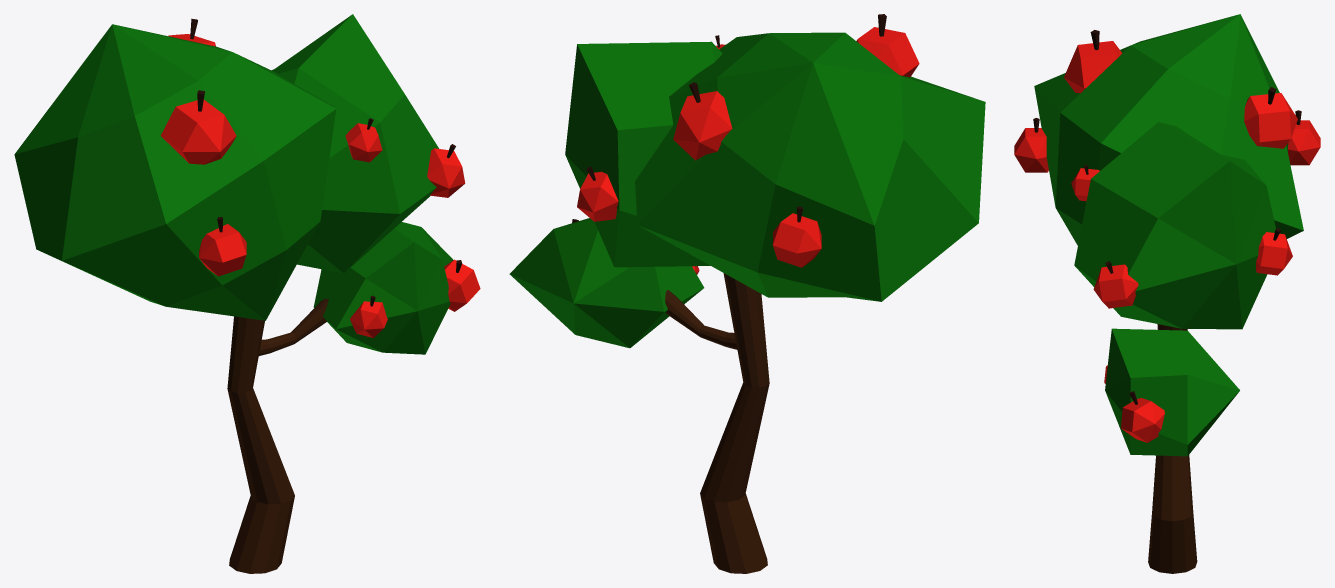
File: tree 3.fbx
3 renders of one model, left to right at view 1: azimuth 30°, elevation 25°; view 2: azimuth 150°, elevation 25°; view 3: azimuth 270°, elevation 25°, orthographic. The views are drawn at different scales.
Parts seen in each view (by area): view 1: tree 3; view 2: tree 3; view 3: tree 3.
Boxes of the visible parts, <box> form: tree 3: <box>14,14,480,573</box>; tree 3: <box>509,14,985,573</box>; tree 3: <box>1014,14,1320,573</box>.
Size of the model in its own units: 450 by 540 by 299.
